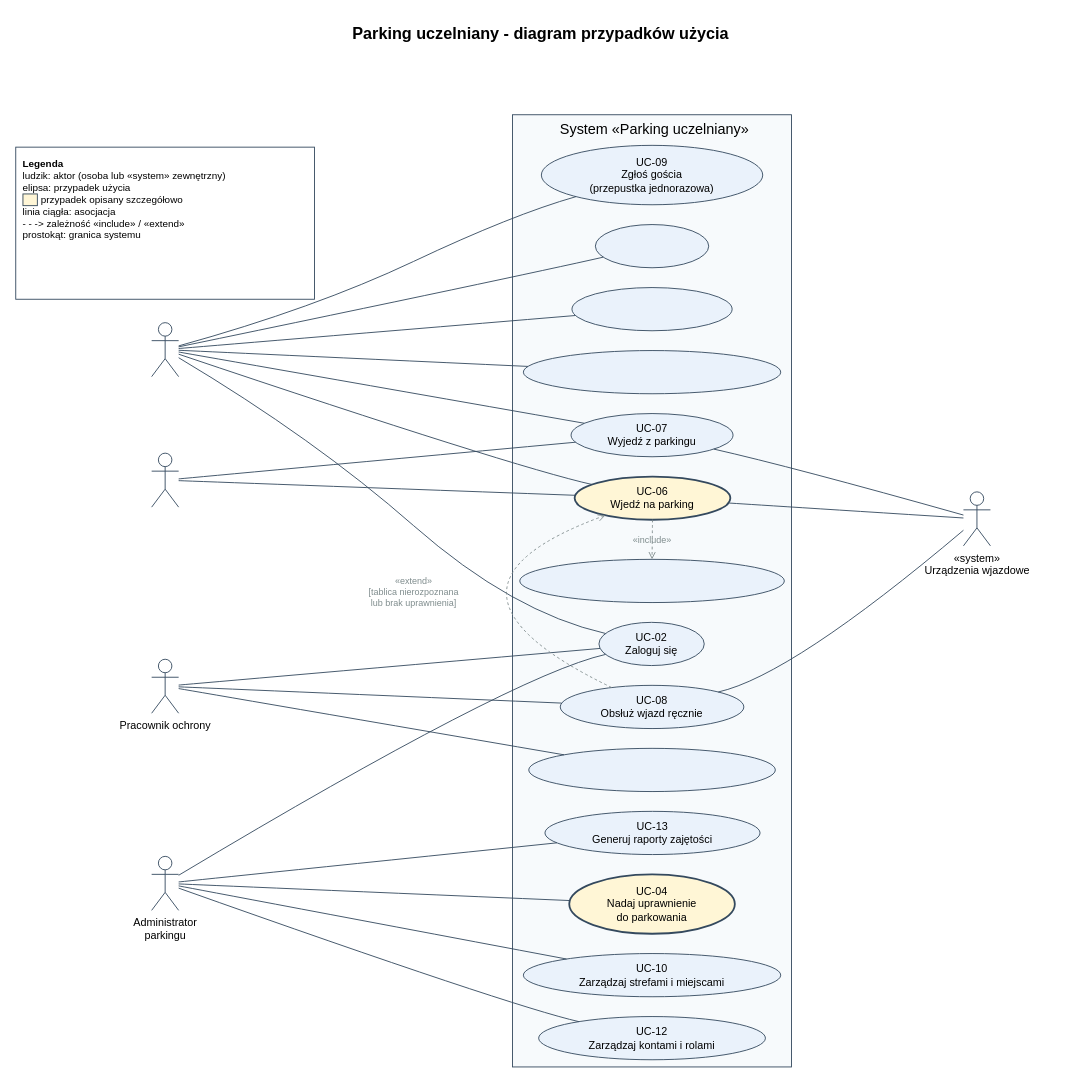
This 1080x1083 diagram has some shape labels left out. Each missing label, with the box of its shape:
Gość: (151, 452, 179, 507)
Kierowca (student / pracownik): (151, 322, 179, 377)
UC-01 Załóż konto: (594, 224, 709, 268)
UC-03 Zarejestruj pojazd: (571, 287, 732, 331)
UC-05 Sprawdź liczbę wolnych miejsc: (522, 350, 781, 394)
UC-11 Przeglądaj zdarzenia na żywo: (528, 747, 775, 792)
UC-14 Zweryfikuj uprawnienie pojazdu: (519, 558, 784, 603)
